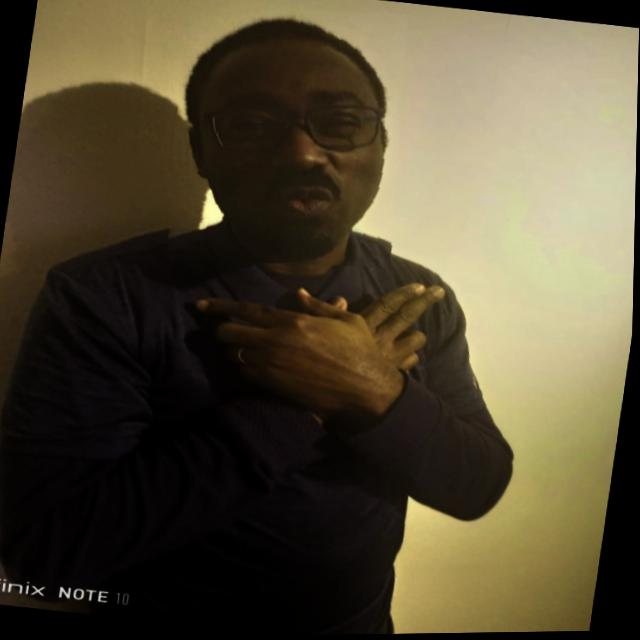sad: (153, 0, 421, 283)
